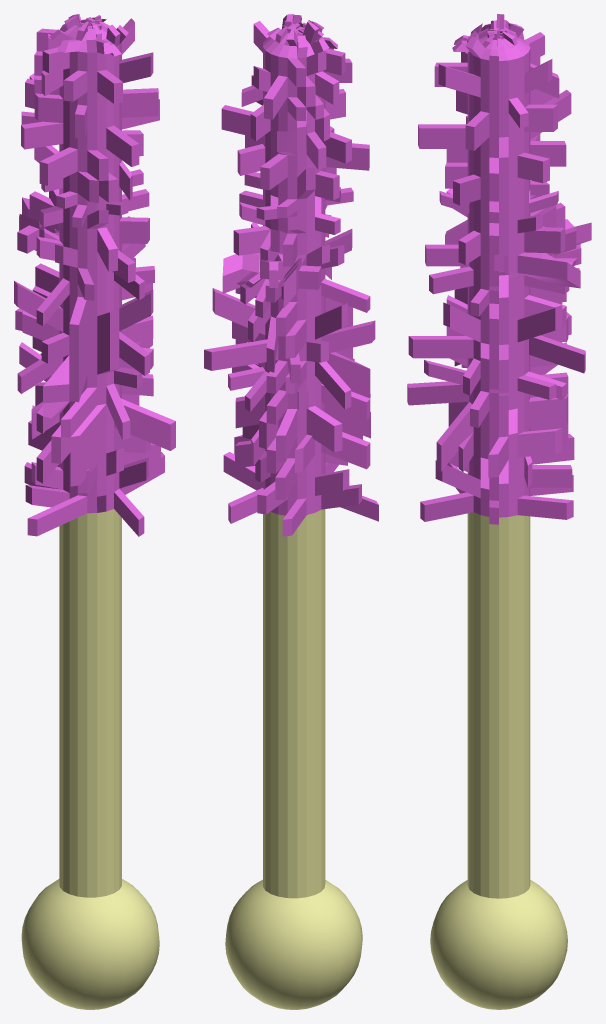
File: rock candy.fbx
3 views of the same model, side by side, from view 1: azimuth 30°, elevation 25°; view 2: azimuth 150°, elevation 25°; view 3: azimuth 270°, elevation 25° (orthographic).
Visible parts, largest first — view 1: pSphere1; view 2: pSphere1; view 3: pSphere1.
Part boxes in pixels (x1,y1,x2,y2): pSphere1: [14, 14, 175, 1009]; pSphere1: [204, 14, 378, 1009]; pSphere1: [407, 14, 591, 1009].
Size of the model in its own units: 1.38 by 9.04 by 1.54.
